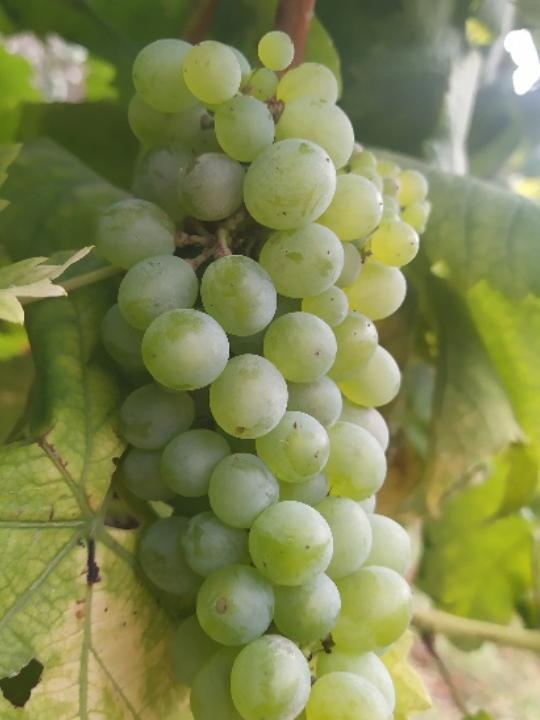grape: (89, 29, 422, 720)
